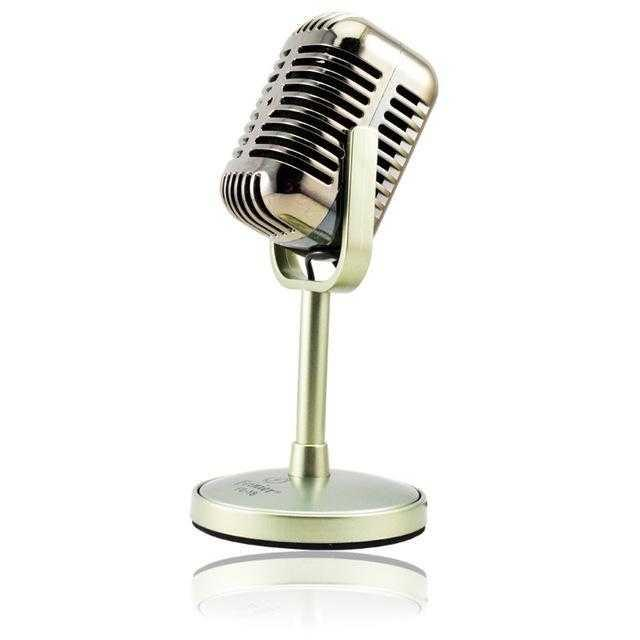microphone: (220, 11, 435, 280)
